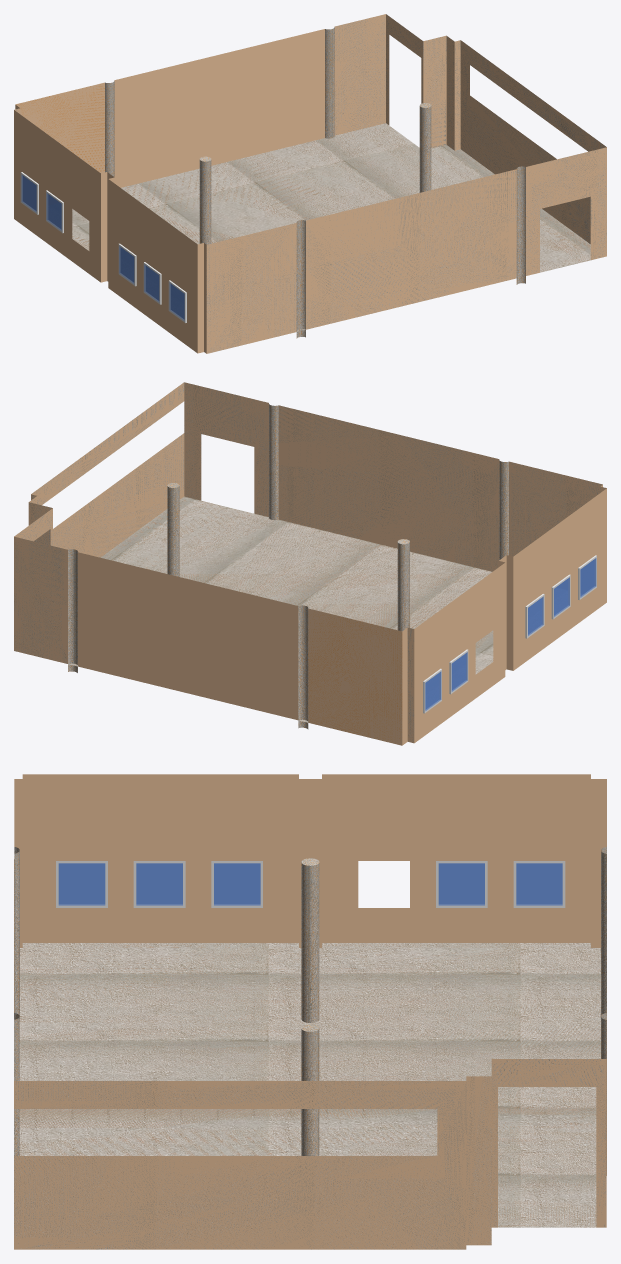
File: AUL008.obj
3 views of the same model, one above another, from view 1: azimuth 30°, elevation 25°; view 2: azimuth 150°, elevation 25°; view 3: azimuth 270°, elevation 25° (orthographic). The views are drawn at different scales.
Visible parts, largest first — view 1: Mesh16 AUL008 Model, Mesh17 AUL008 Model, Mesh18 AUL008 Model, Mesh7 Group3 AUL008 Model, Mesh1 Group1 AUL008 Model, Mesh4 Group2 AUL008 Model, Mesh10 Group4 AUL008 Model, Mesh13 Group5 AUL008 Model; view 2: Mesh16 AUL008 Model, Mesh17 AUL008 Model, Mesh18 AUL008 Model, Mesh7 Group3 AUL008 Model, Mesh13 Group5 AUL008 Model, Mesh1 Group1 AUL008 Model, Mesh4 Group2 AUL008 Model, Mesh10 Group4 AUL008 Model; view 3: Mesh16 AUL008 Model, Mesh18 AUL008 Model, Mesh4 Group2 AUL008 Model, Mesh7 Group3 AUL008 Model, Mesh1 Group1 AUL008 Model, Mesh10 Group4 AUL008 Model, Mesh13 Group5 AUL008 Model, Mesh17 AUL008 Model.
Boxes of the visible parts, x1,y1,x2,y2 form: Mesh16 AUL008 Model: [14, 14, 606, 353]; Mesh17 AUL008 Model: [419, 103, 431, 192]; Mesh18 AUL008 Model: [199, 156, 211, 244]; Mesh7 Group3 AUL008 Model: [143, 262, 161, 304]; Mesh1 Group1 AUL008 Model: [118, 243, 136, 286]; Mesh4 Group2 AUL008 Model: [20, 172, 38, 214]; Mesh10 Group4 AUL008 Model: [168, 280, 186, 322]; Mesh13 Group5 AUL008 Model: [46, 190, 63, 233]; Mesh16 AUL008 Model: [14, 382, 606, 745]; Mesh17 AUL008 Model: [167, 483, 179, 576]; Mesh18 AUL008 Model: [397, 539, 409, 631]; Mesh7 Group3 AUL008 Model: [551, 574, 570, 619]; Mesh13 Group5 AUL008 Model: [449, 649, 468, 694]; Mesh1 Group1 AUL008 Model: [525, 594, 544, 638]; Mesh4 Group2 AUL008 Model: [423, 668, 441, 713]; Mesh10 Group4 AUL008 Model: [578, 555, 596, 599]; Mesh16 AUL008 Model: [14, 774, 606, 1249]; Mesh18 AUL008 Model: [301, 858, 319, 1022]; Mesh4 Group2 AUL008 Model: [513, 861, 565, 907]; Mesh7 Group3 AUL008 Model: [133, 861, 185, 907]; Mesh1 Group1 AUL008 Model: [211, 861, 262, 907]; Mesh10 Group4 AUL008 Model: [56, 861, 107, 907]; Mesh13 Group5 AUL008 Model: [436, 861, 487, 907]; Mesh17 AUL008 Model: [301, 1024, 319, 1155].
Bounding box in the file's own units: 14.08 × 3.85 × 11.46.
Materials: 7 (2 with a texture image).
